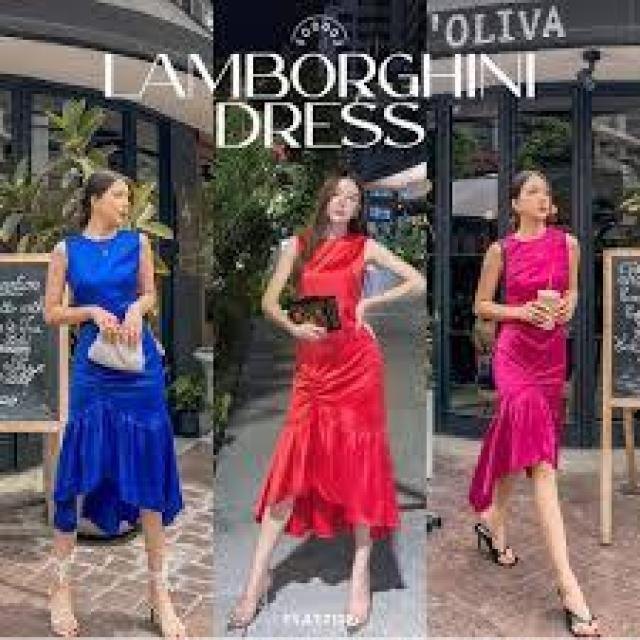dress: (48, 225, 185, 543), (253, 230, 393, 535), (468, 228, 579, 512)
